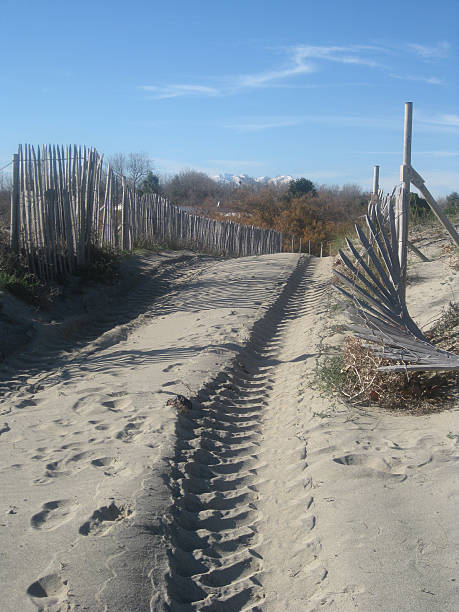vehicle_track: (168, 257, 310, 611)
